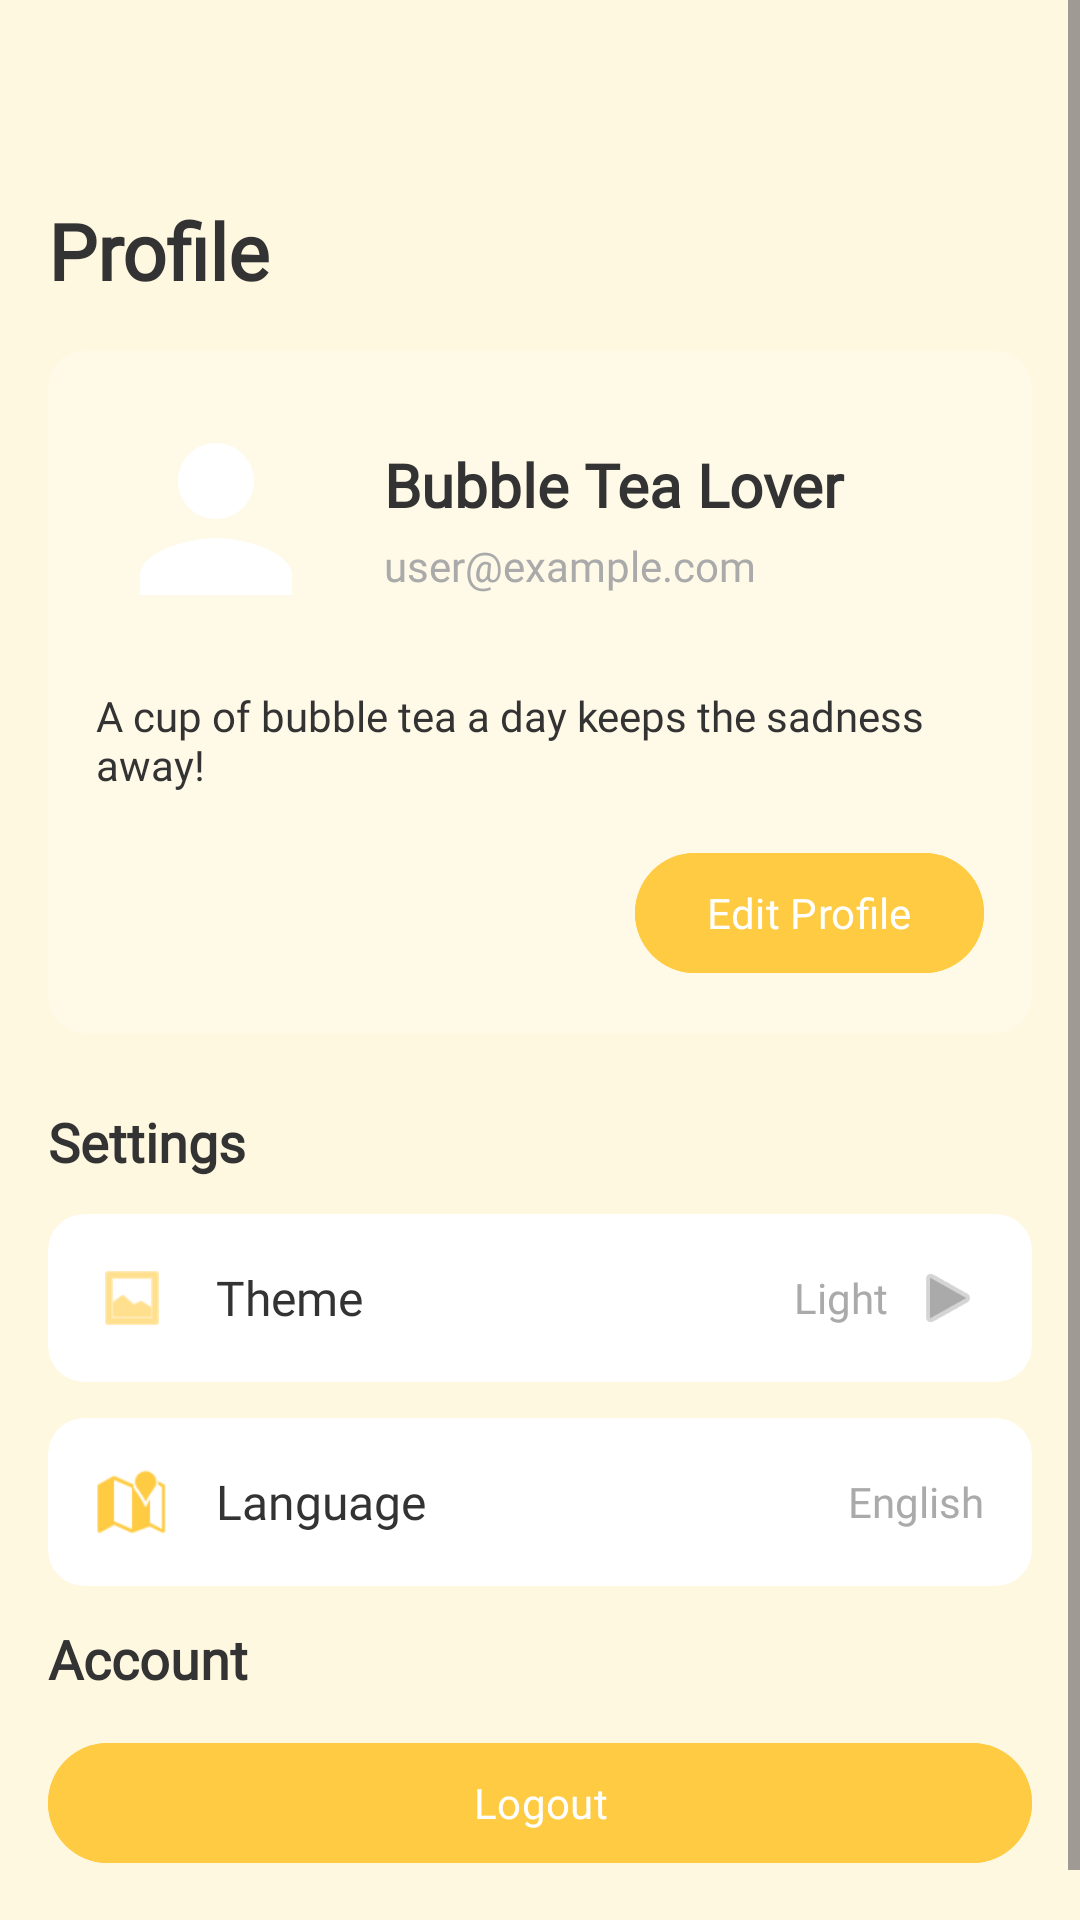

Screen size 1080 × 1920. Icon name, then its center in pixels as (x,y):
Arrow Right: (948,1298)
